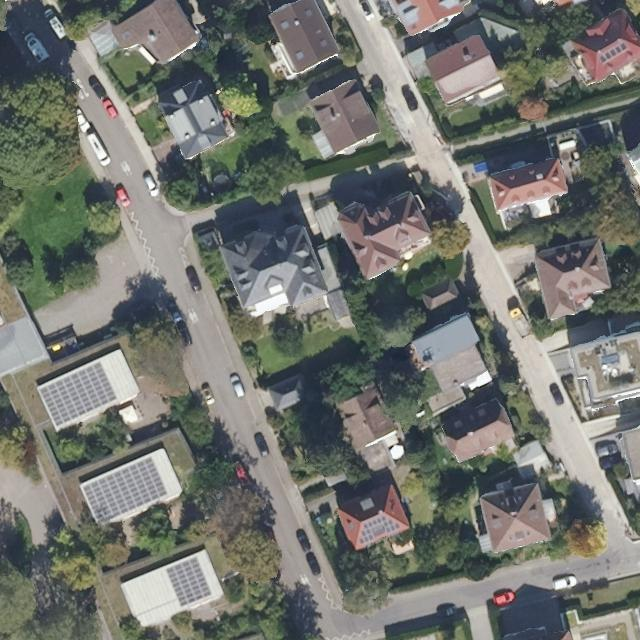PV: (80, 454, 170, 526), (38, 359, 119, 429), (163, 554, 214, 608), (358, 515, 402, 546), (597, 41, 629, 65)
